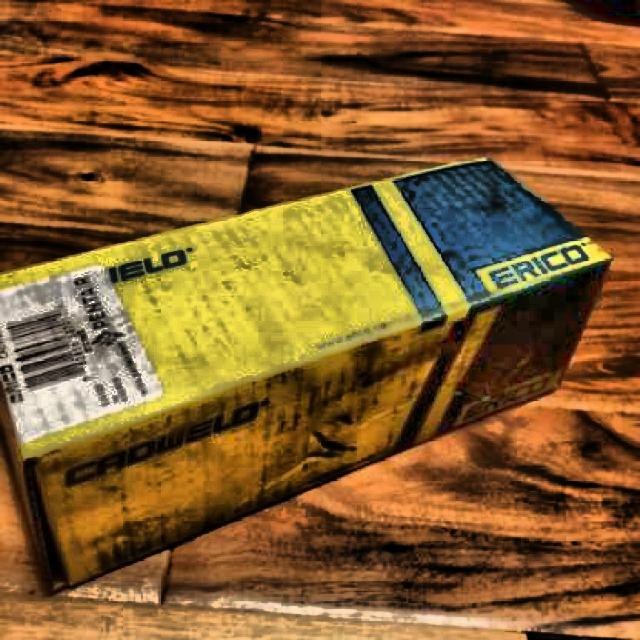Cardbox: (0, 134, 626, 595)
